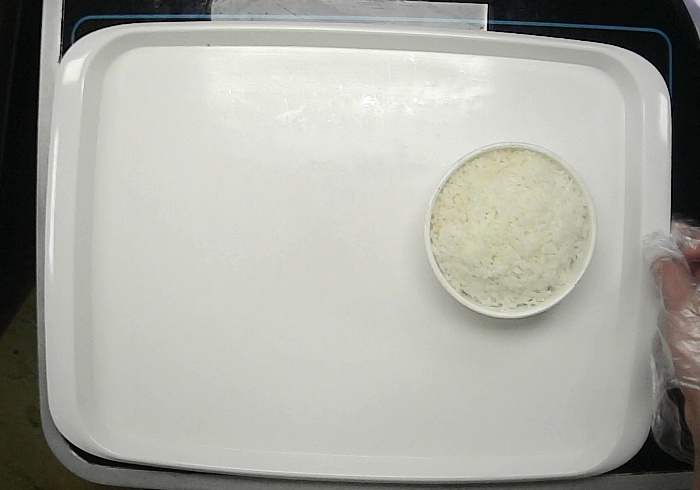HZYJPL-Fan_Wan: (422, 141, 597, 319)
